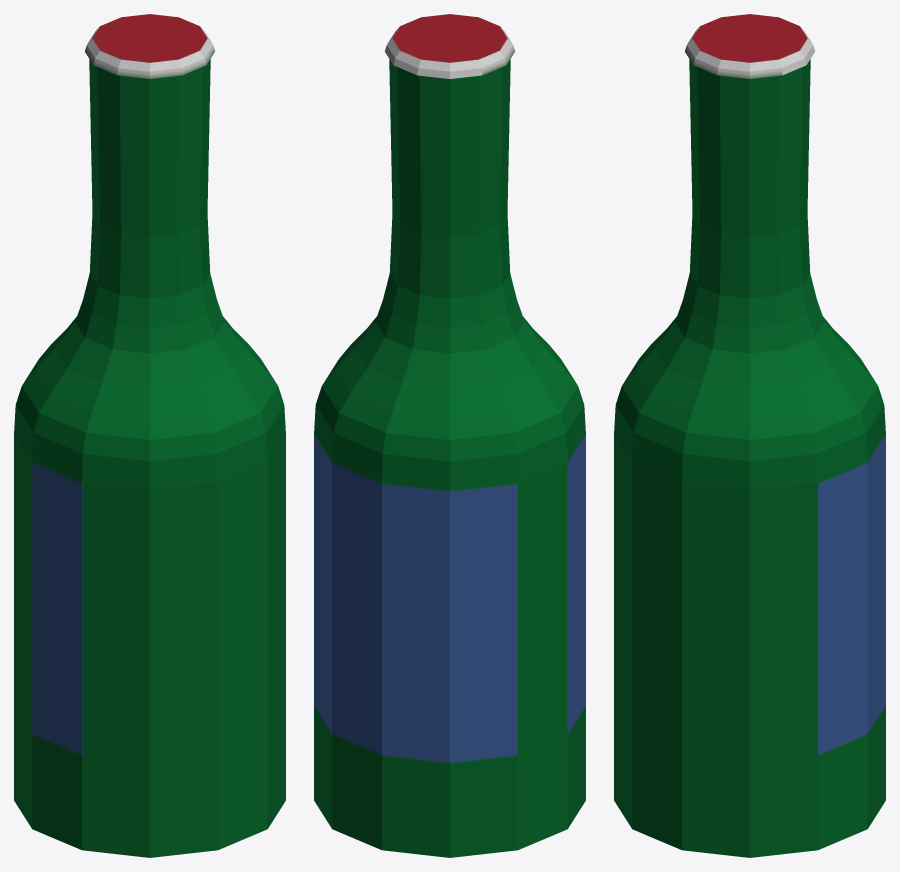
File: Bottiglia birra.fbx
The picture shows the model from 3 angles, left to right: view 1: azimuth 30°, elevation 25°; view 2: azimuth 150°, elevation 25°; view 3: azimuth 270°, elevation 25°; orthographic projection.
Parts seen in each view (by area): view 1: Cylinder; view 2: Cylinder; view 3: Cylinder.
Boxes of the visible parts, x1,y1,x2,y2 form: Cylinder: (14,14,285,857); Cylinder: (314,14,585,857); Cylinder: (614,14,885,857).
Bounding box in the file's own units: 458 × 1416 × 458.
